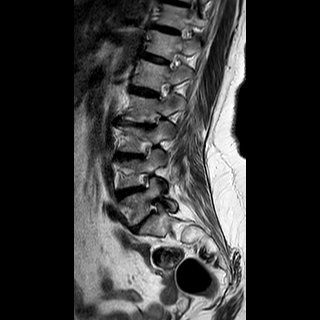RFS0: (135, 134, 160, 165), (151, 76, 174, 104)
RFS1: (134, 164, 158, 198)
